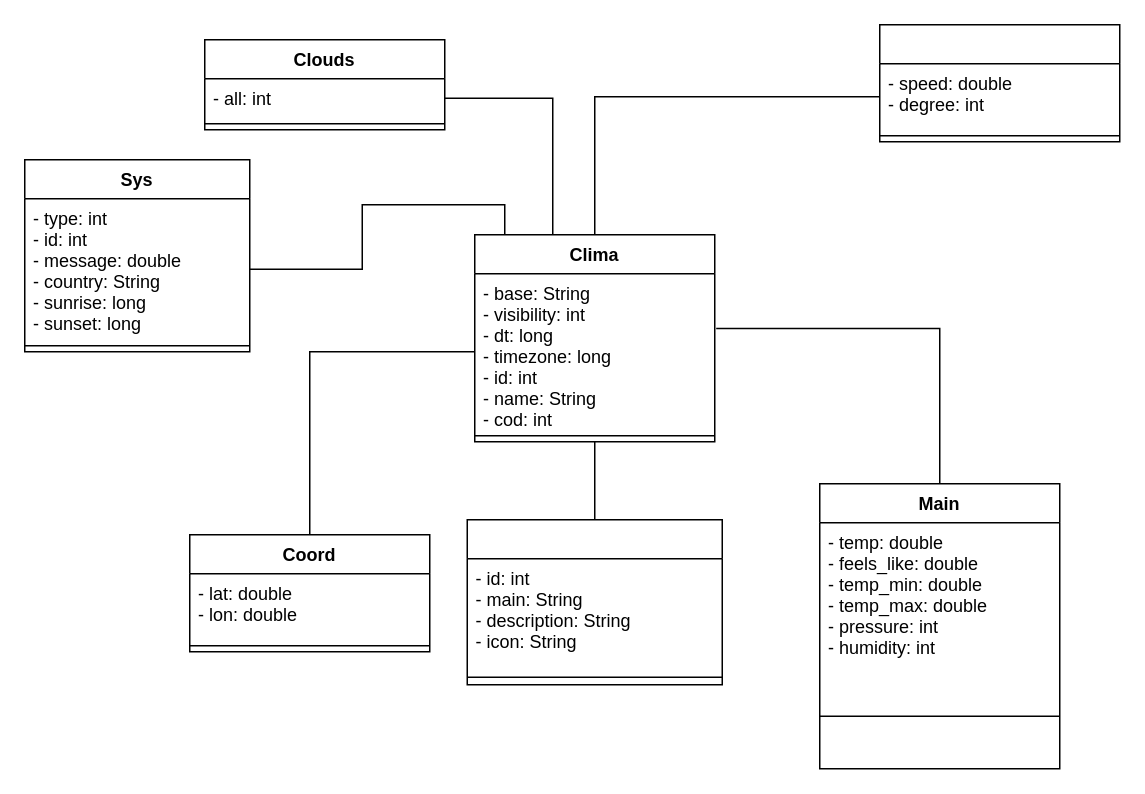
This 1145x794 diagram has some shape labels left out. The box of each missing label's shape, as (x1, y1, x2, y2) in pixels:
Weather: (466, 518, 722, 685)
Wind: (878, 23, 1120, 142)
